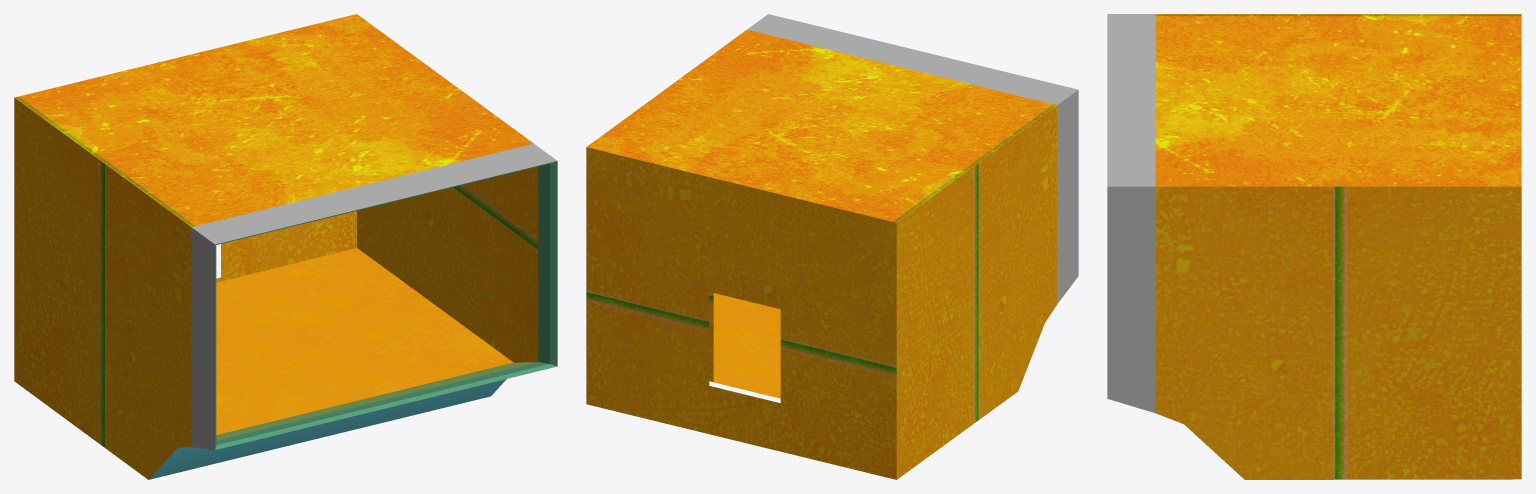
File: FacilityObservatory_01_SM_Low.fbx
The picture shows the model from 3 angles, left to right: view 1: azimuth 30°, elevation 25°; view 2: azimuth 150°, elevation 25°; view 3: azimuth 270°, elevation 25°; orthographic projection. The views are drawn at different scales.
Parts seen in each view (by area): view 1: facility_observatory_geo; view 2: facility_observatory_geo; view 3: facility_observatory_geo.
Part boxes in pixels (bbox=[...]): facility_observatory_geo: bbox=[14, 14, 557, 479]; facility_observatory_geo: bbox=[586, 14, 1078, 479]; facility_observatory_geo: bbox=[1107, 14, 1521, 479].
Bounding box in the file's own units: 825 × 654 × 838.
Materials: 6 (2 with a texture image).
